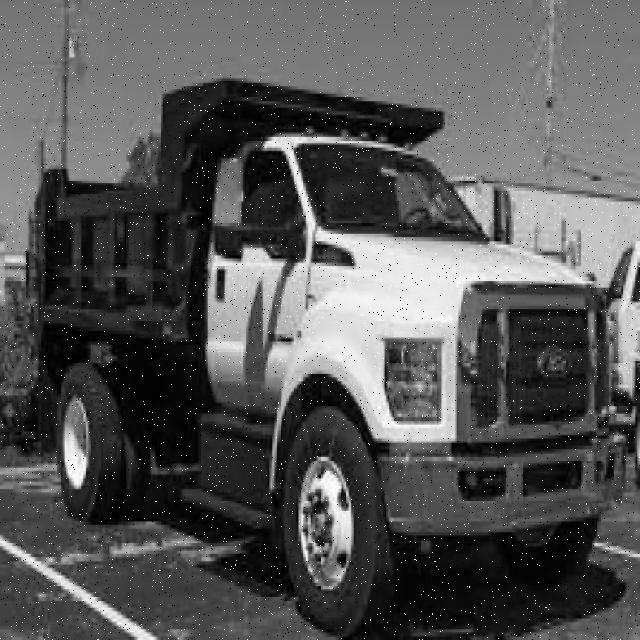Truck- 2-Axle: (25, 79, 634, 640)
